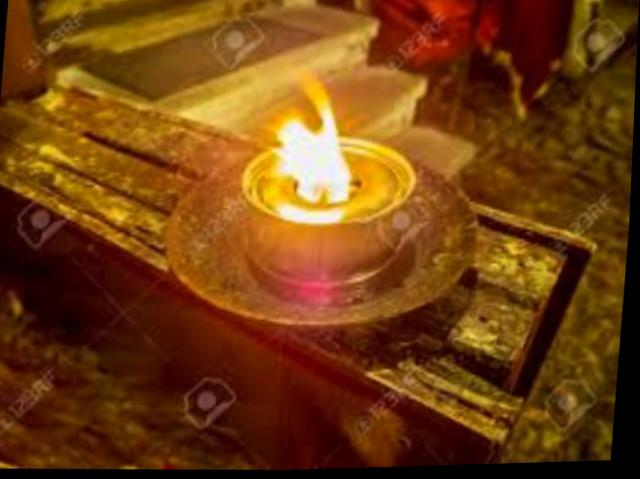fire: (264, 103, 365, 214)
